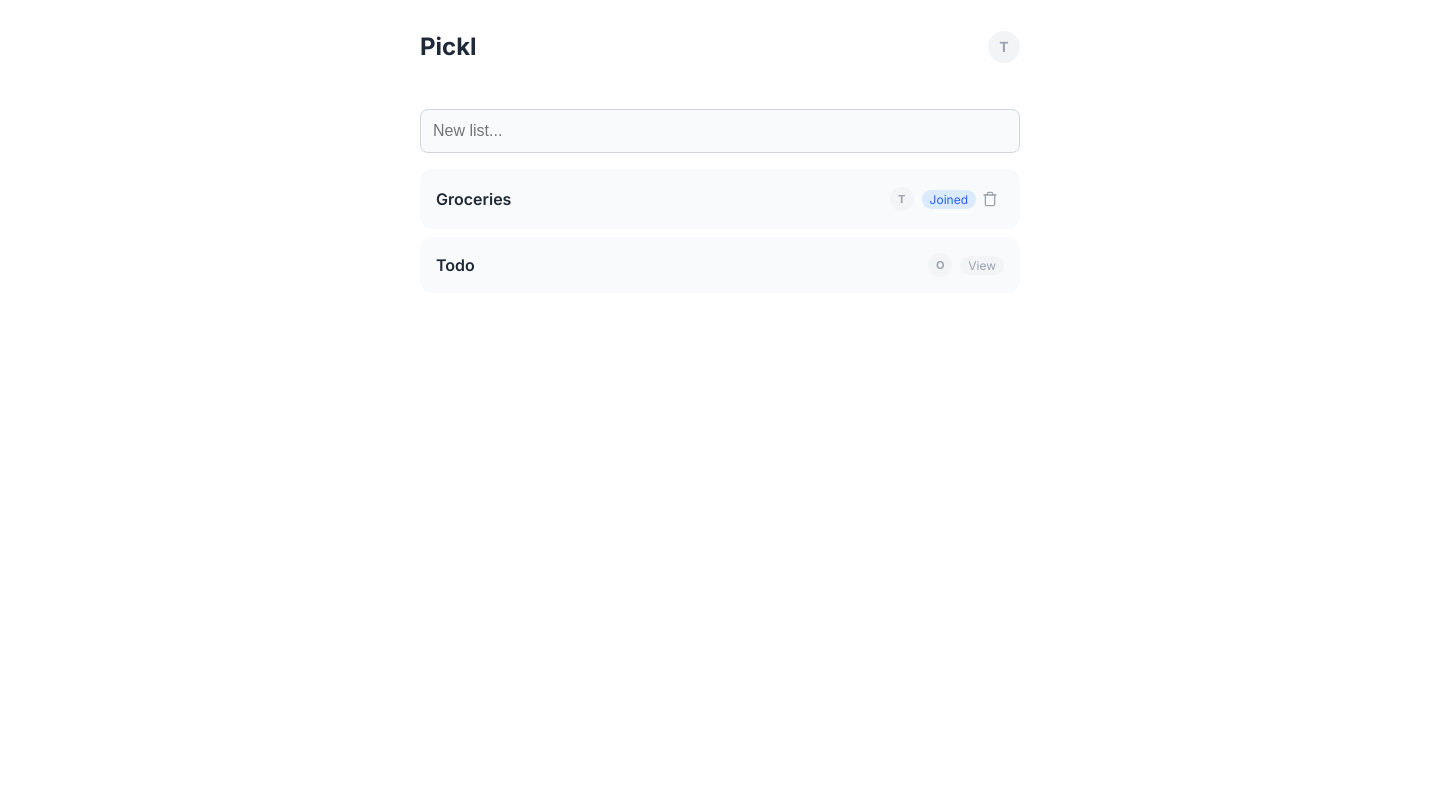
Test: ListsPage › removes list after confirming deletion
The image size is (1440, 810).
Expected: the text "Groceries" is shown, [436,189,511,209]
Click the button named "Delete list" at (990, 199), box [976,185,1004,213]
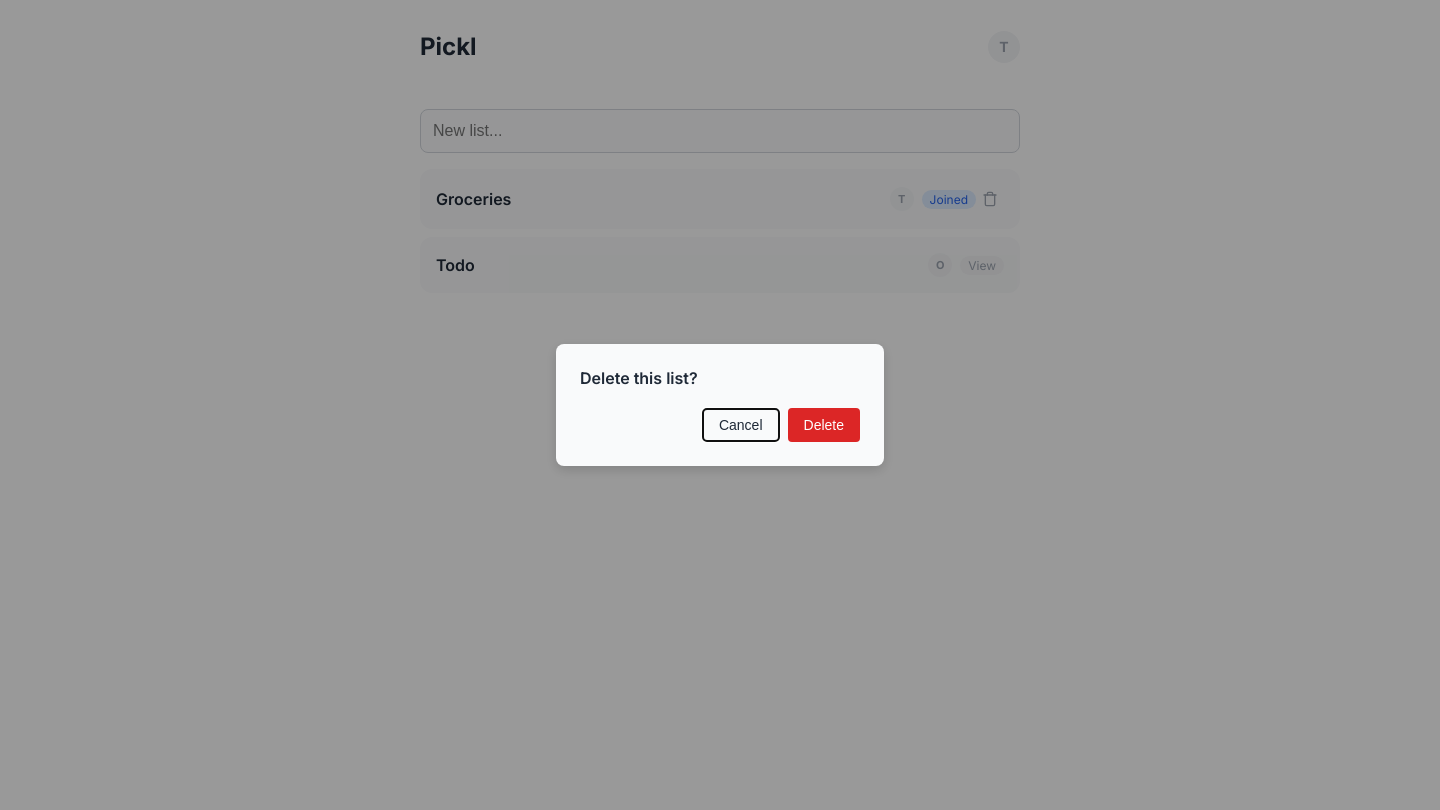
Expected: the heading "Delete this list?" is shown, [580,368,698,388]
Click the button "Delete" at (824, 425), box [788,408,860,442]
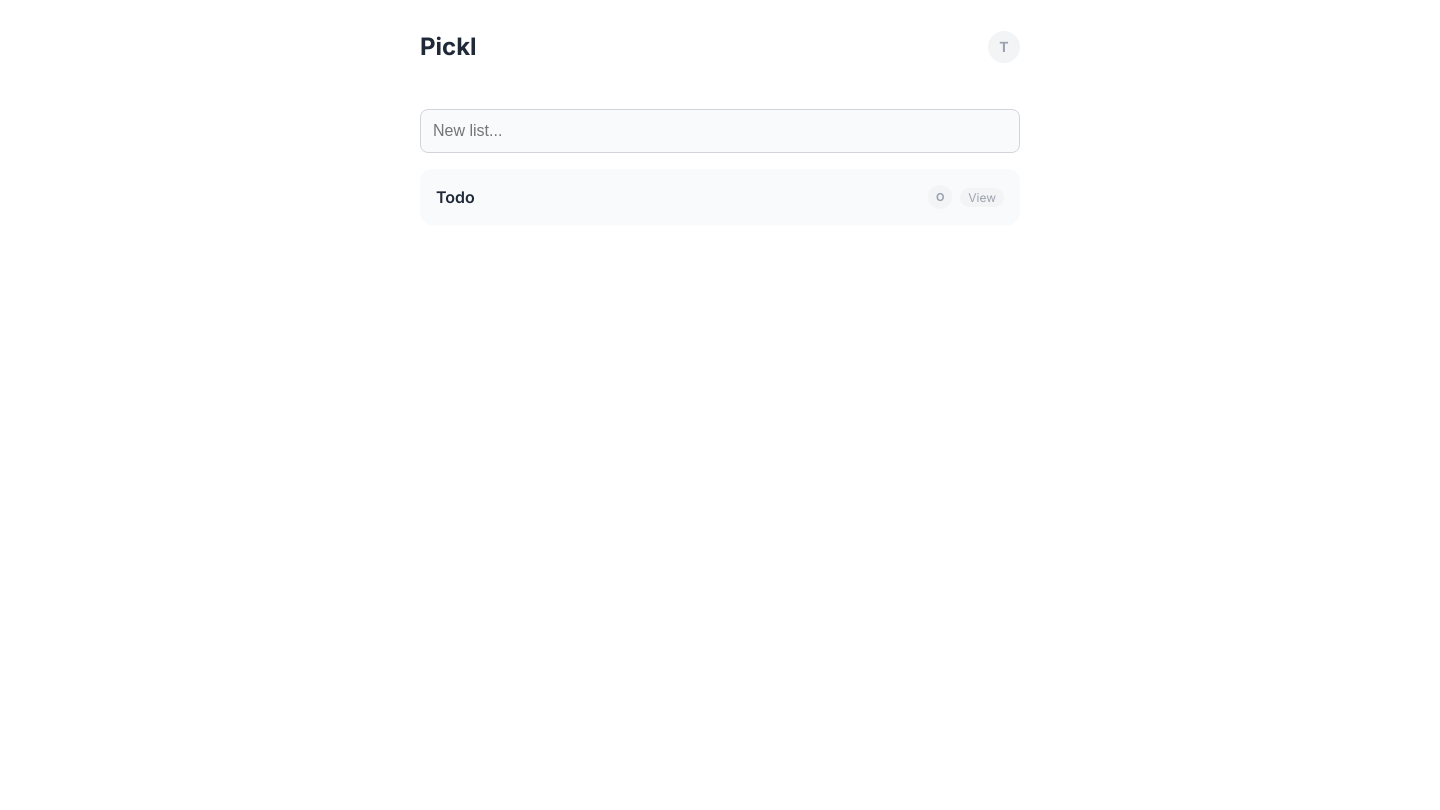
Expected: the link "Groceries" is gone
